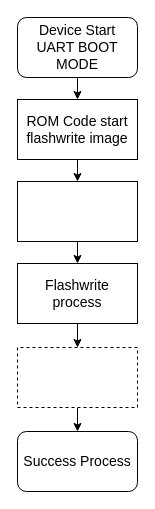
Image size: 155x509. Some labels were removed from this diagram. The box of each missing label's shape, as (x1, y1, x2, y2) in pixels:
Device setup: (16, 180, 138, 242)
PC notify user about success: (16, 346, 138, 408)
